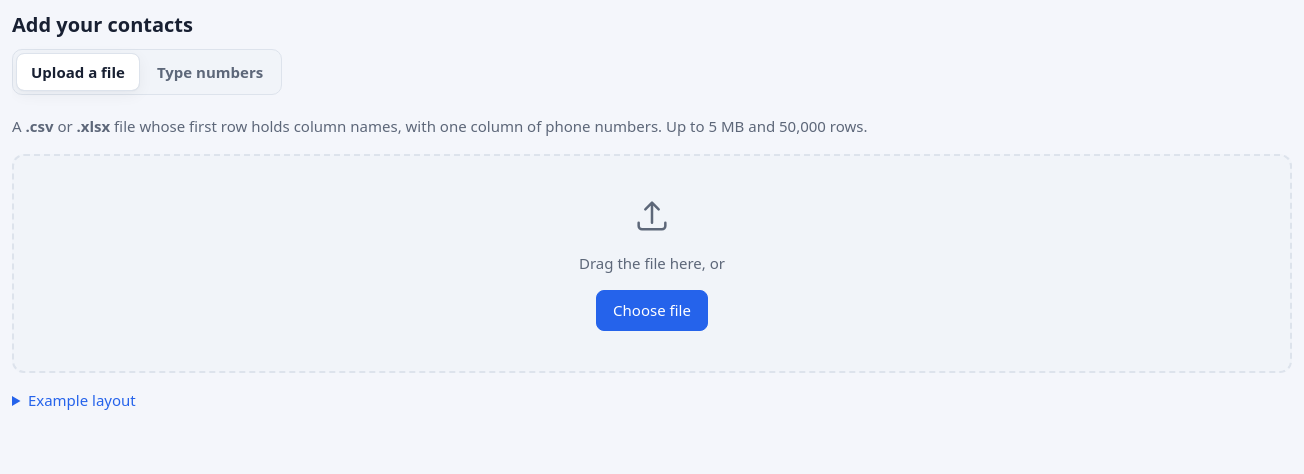
typed contacts › switches between uploading a file and typing numbers
expect the button "Choose file" is shown: met, box [596, 290, 708, 330]
Click the button "Type numbers". click: (210,72)
box: [143, 54, 277, 90]
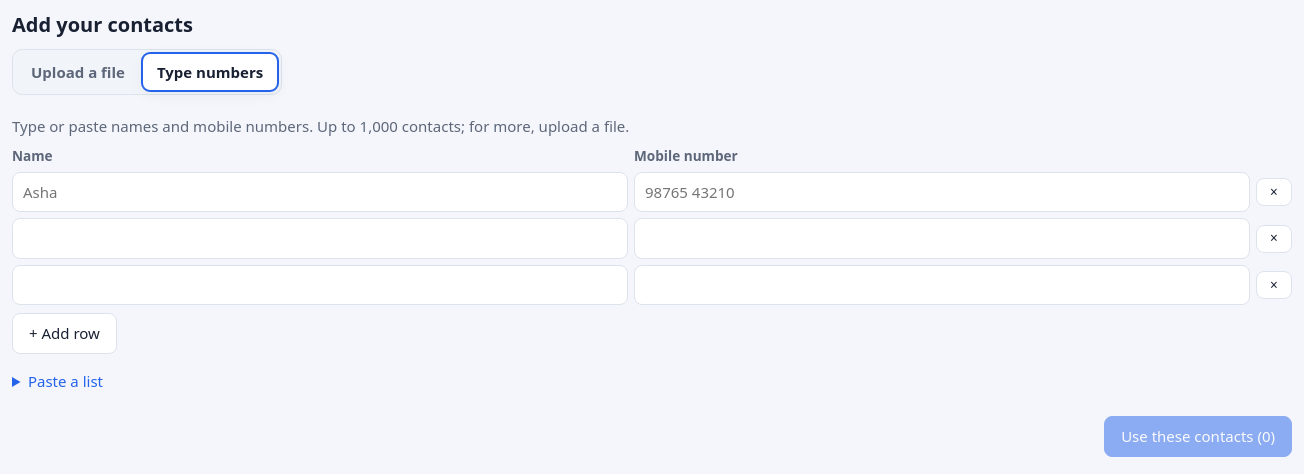
expect the button "Choose file" is gone: met
expect the field named "Name 1" is shown: met, box [12, 172, 628, 212]
